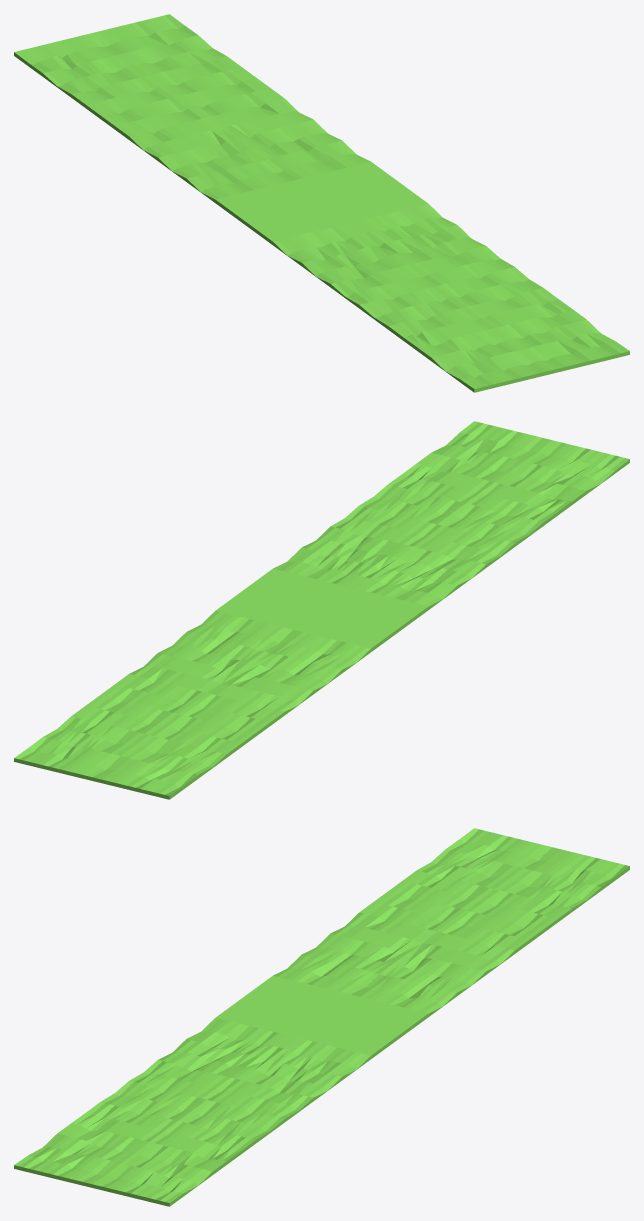
File: SueloClaro 2.fbx
3 renders of one model, top to bottom at view 1: azimuth 30°, elevation 25°; view 2: azimuth 150°, elevation 25°; view 3: azimuth 330°, elevation 25°, orthographic.
Parts seen in each view (by area): view 1: Izquierda.001; view 2: Izquierda.001; view 3: Izquierda.001.
Boxes of the visible parts, x1,y1,x2,y2 form: Izquierda.001: [14, 14, 629, 392]; Izquierda.001: [14, 421, 629, 799]; Izquierda.001: [14, 828, 629, 1206].
Size of the model in its own units: 777 by 17.81 by 3982.
